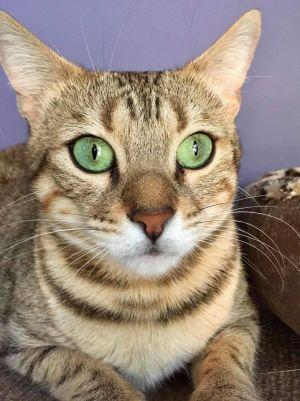bengal: (1, 1, 277, 286)
